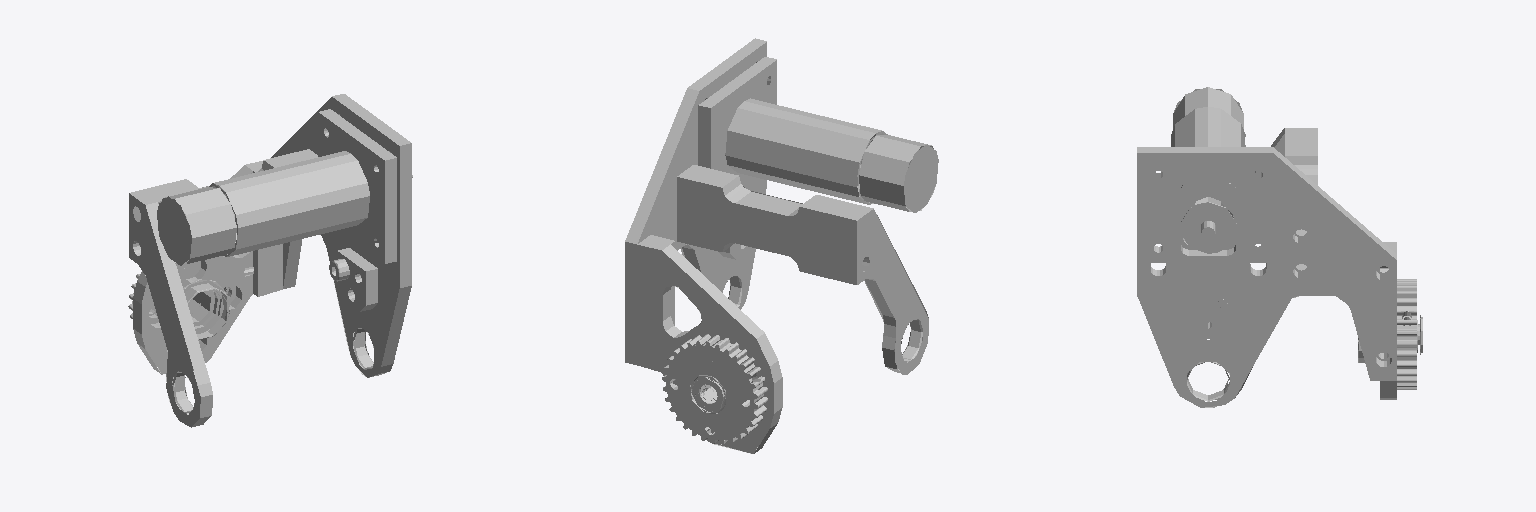
Rendered from eyel_1_joint.obj.
3 renders of one model, left to right at view 1: azimuth 30°, elevation 25°; view 2: azimuth 150°, elevation 25°; view 3: azimuth 270°, elevation 25°, orthographic.
Size of the model in its own units: 0.0569 by 0.067 by 0.0601.